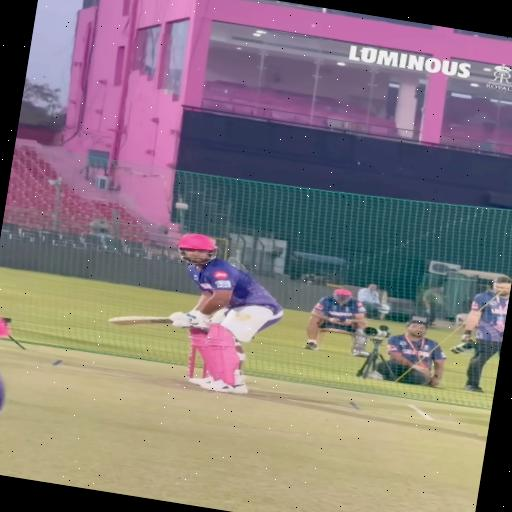Cricket bat: (109, 316, 172, 325)
